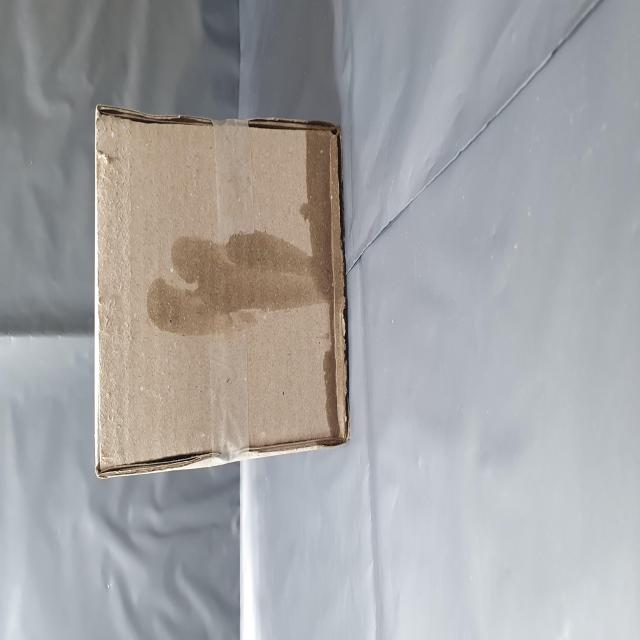wet: (113, 539, 290, 617)
